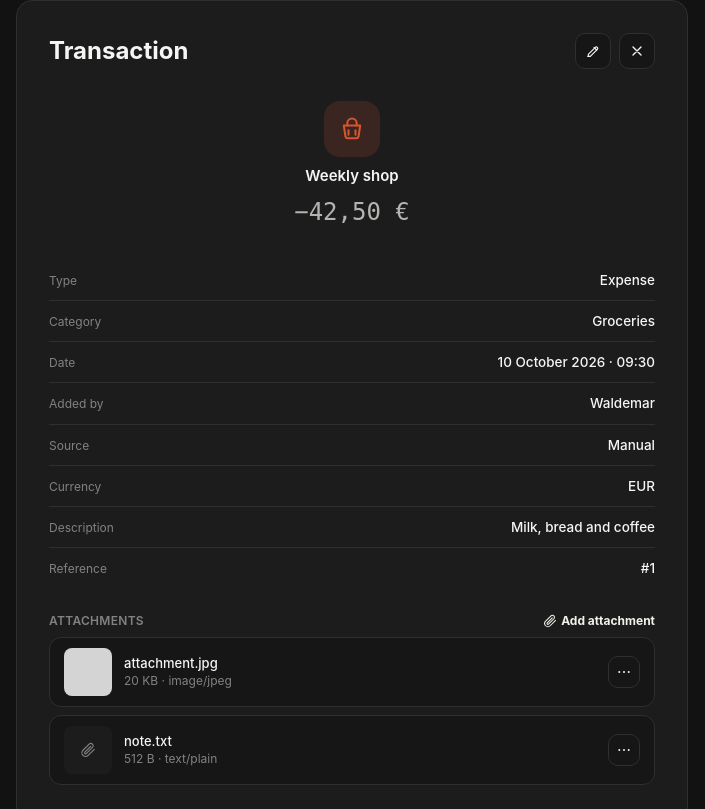
Scenario: TransactionDetailPage › cancels edit mode without a request when nothing was changed
The width and height of the screenshot is (705, 809).
Expected: the text "Weekly shop" is shown, [305,165,399,188]
Click the button named "Edit" at (593,51), box [575,33,611,69]
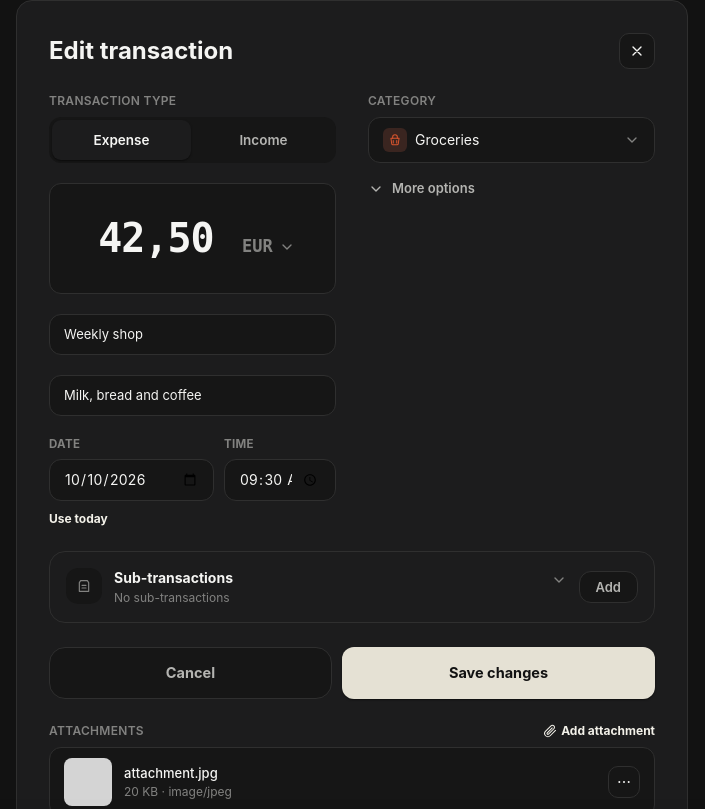
Expected: the field named "Transaction name" is shown, [49,314,336,355]
Click the button "Cancel" at (190,673), box [49,648,332,699]
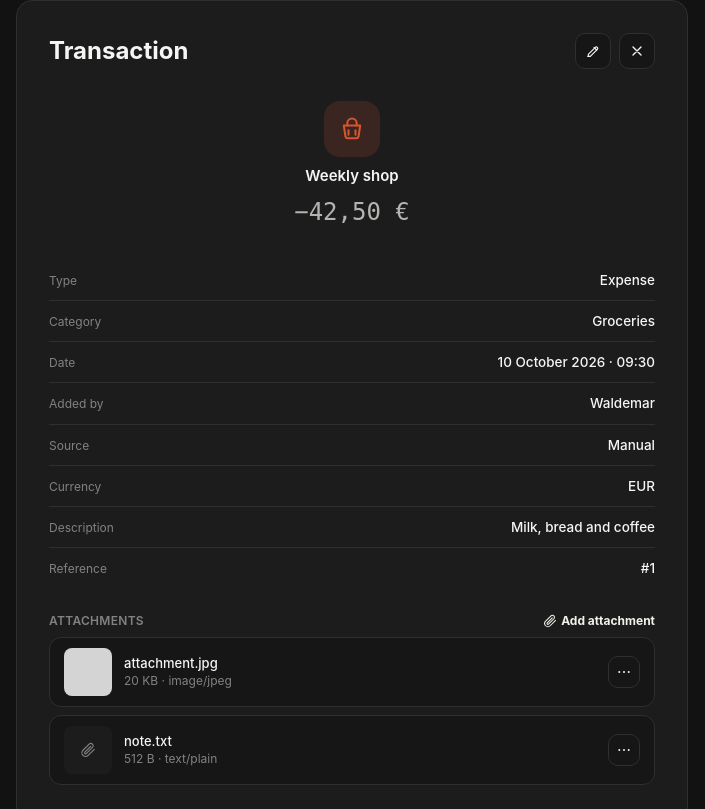
Expected: the text "Weekly shop" is shown, [305,165,399,188]
